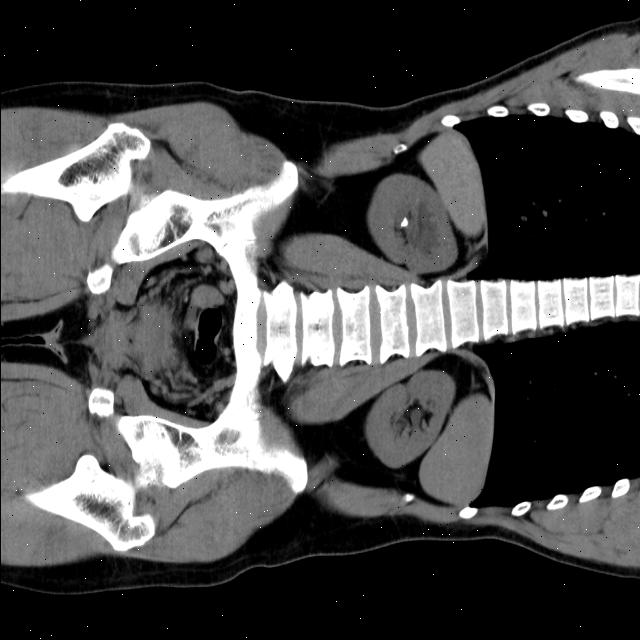kidneystone: (400, 218, 408, 227)
